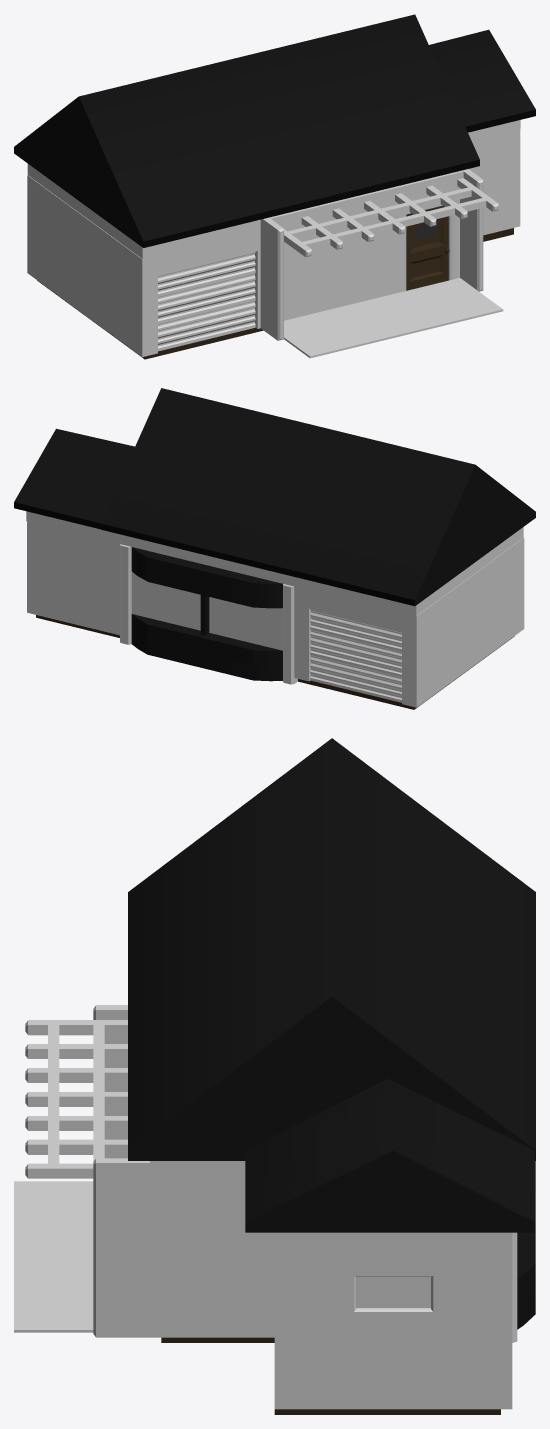
File: House_Standin.fbx
3 renders of one model, top to bottom at view 1: azimuth 30°, elevation 25°; view 2: azimuth 150°, elevation 25°; view 3: azimuth 270°, elevation 25°, orthographic. The views are drawn at different scales.
Parts seen in each view (by area): view 1: Roof, group2_pasted__pCube2, pCube62, pCube44, pCube21; view 2: Roof, group2_pasted__pCube2, pCube43, pCube28; view 3: Roof, group2_pasted__pCube2, pCube62, pCube29, pasted__pCube4.
Part boxes in pixels (x1,y1,x2,y2): Roof: [14, 14, 535, 258]; group2_pasted__pCube2: [27, 128, 520, 359]; pCube62: [260, 169, 503, 358]; pCube44: [158, 251, 255, 351]; pCube21: [406, 205, 449, 290]; Roof: [14, 388, 535, 615]; group2_pasted__pCube2: [27, 521, 524, 709]; pCube43: [310, 609, 401, 702]; pCube28: [131, 571, 282, 650]; Roof: [128, 738, 535, 1255]; group2_pasted__pCube2: [161, 1161, 535, 1414]; pCube62: [14, 1005, 149, 1337]; pCube29: [356, 1277, 430, 1307]; pasted__pCube4: [150, 1184, 161, 1337].
Size of the model in its own units: 6.9 by 3.47 by 4.61.
